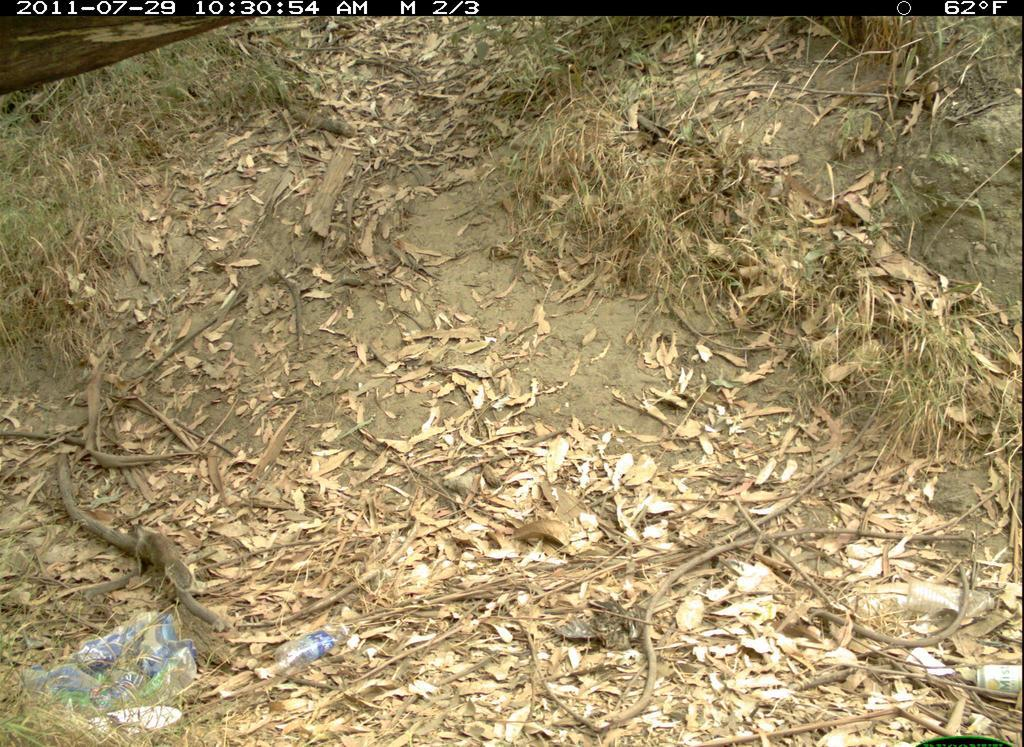squirrel: (126, 521, 203, 609)
